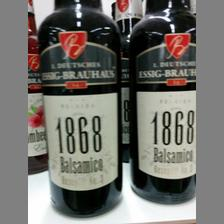Essig: (37, 0, 123, 216), (128, 0, 196, 204)
